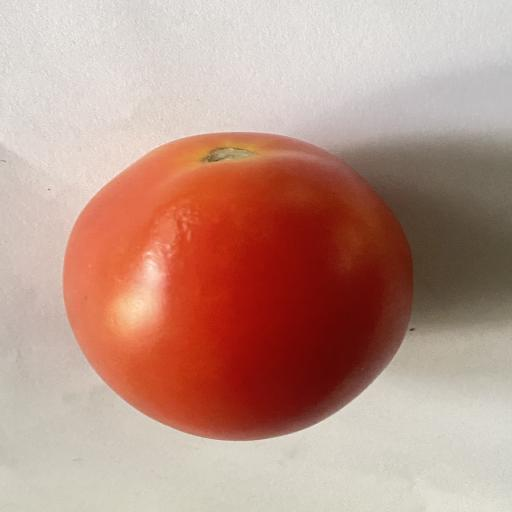overipe: (64, 132, 412, 440)
